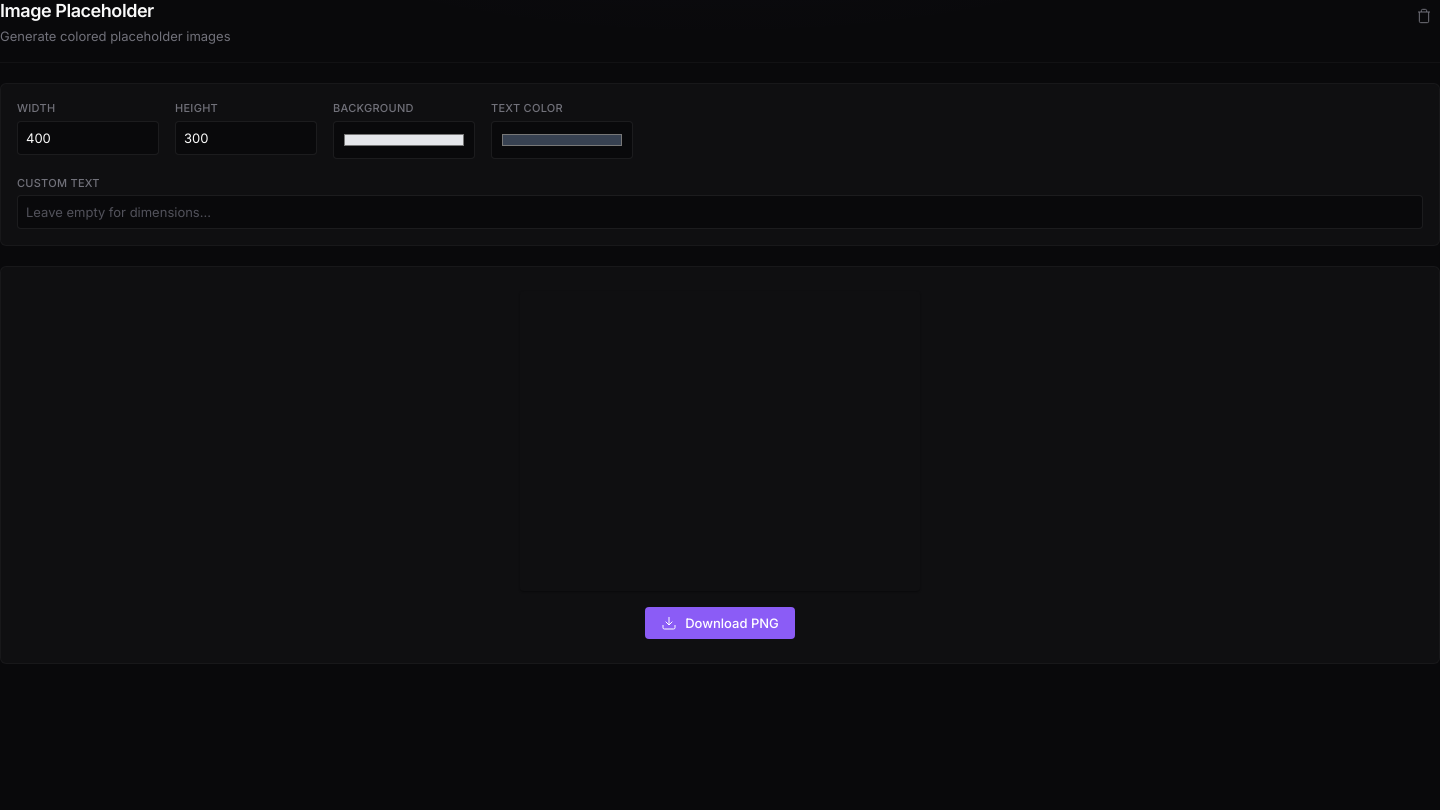
it: PlaceholderTool › Clear Functionality › should clear when clear button clicked
Replace the text in the number field with test id "width-input" with "800" at (88, 138), box [17,120,159,154]
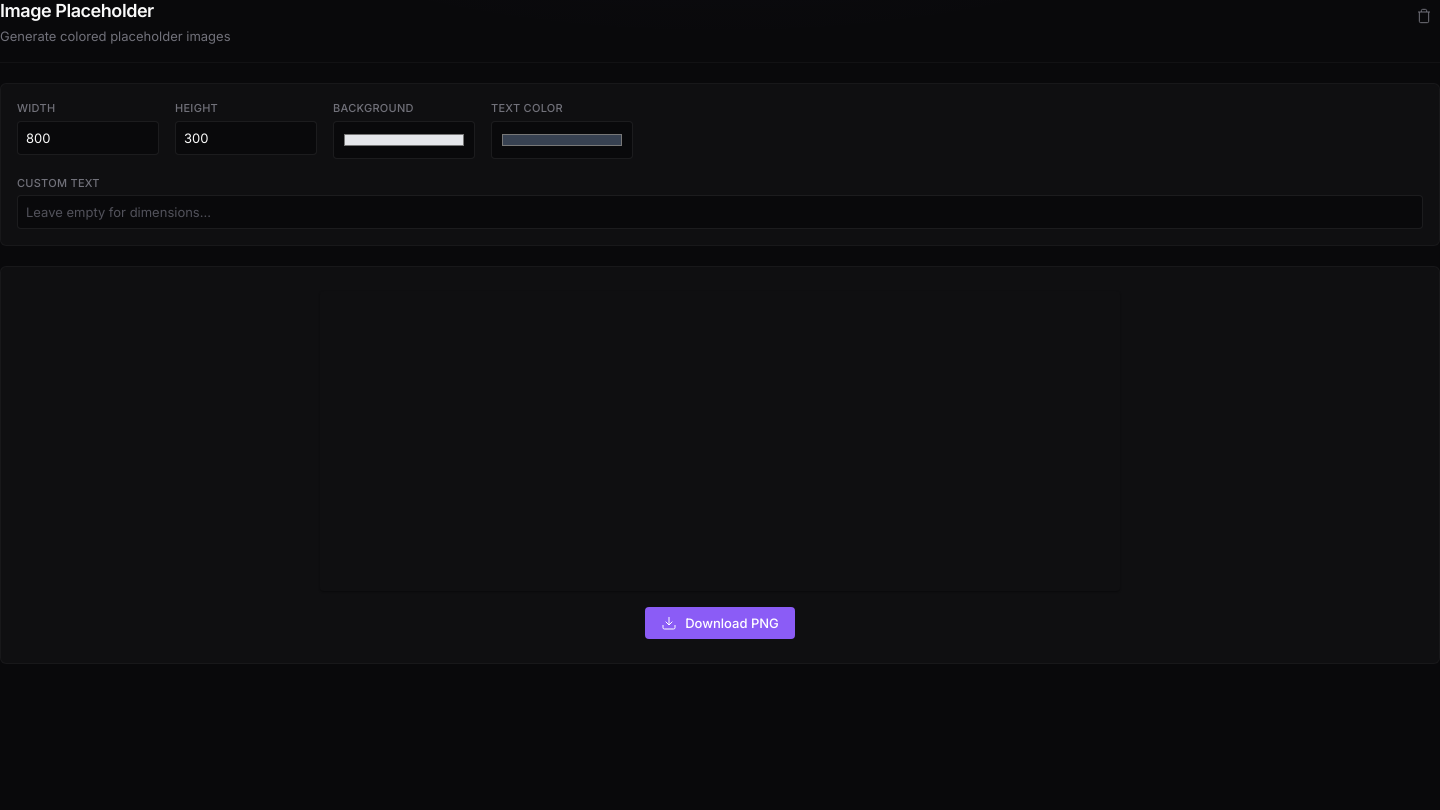
Replace the text in the number field with test id "height-input" with "600" at (246, 138), box [175,120,317,154]
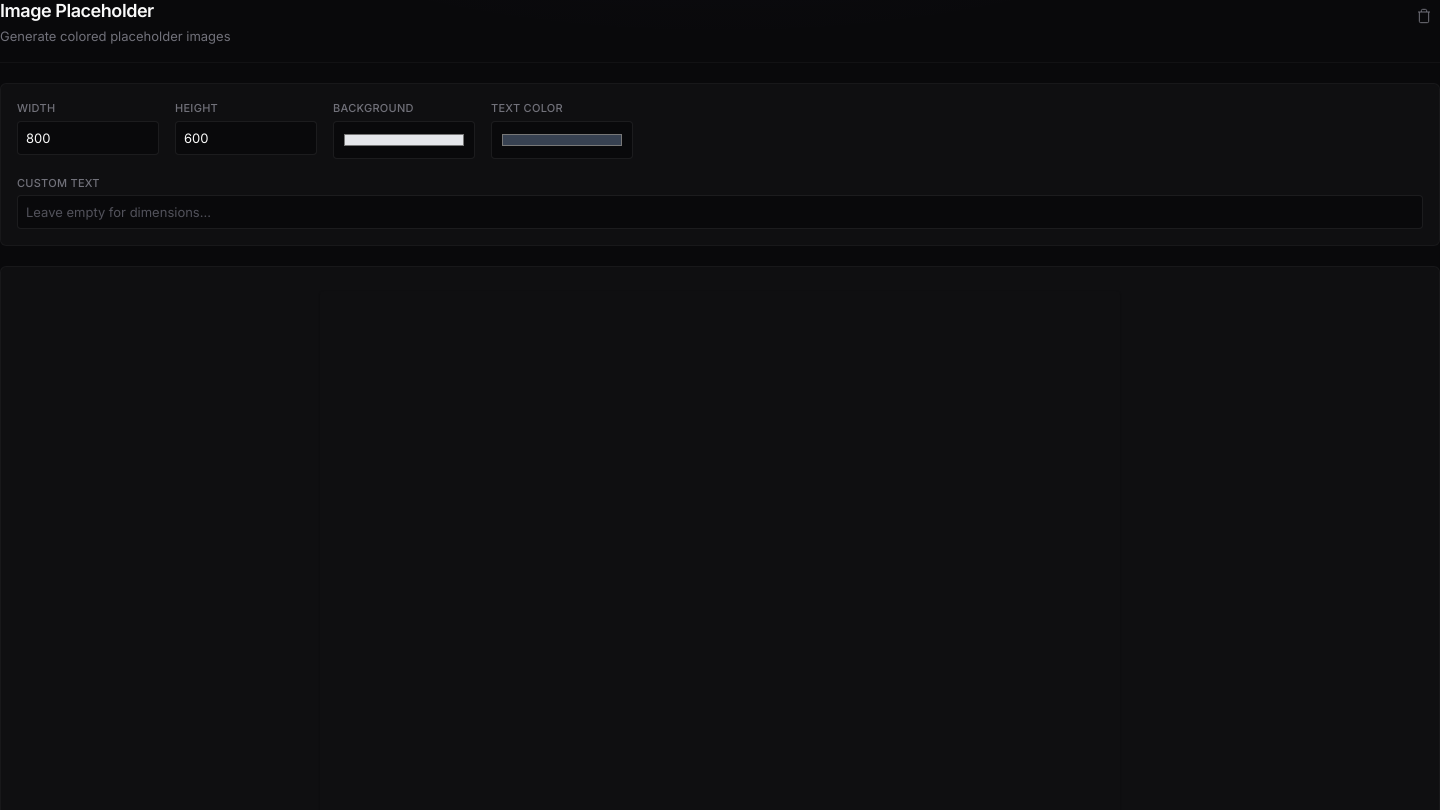
Type "Custom" into the field with test id "custom-text-input" at (720, 212), box [17,195,1423,229]
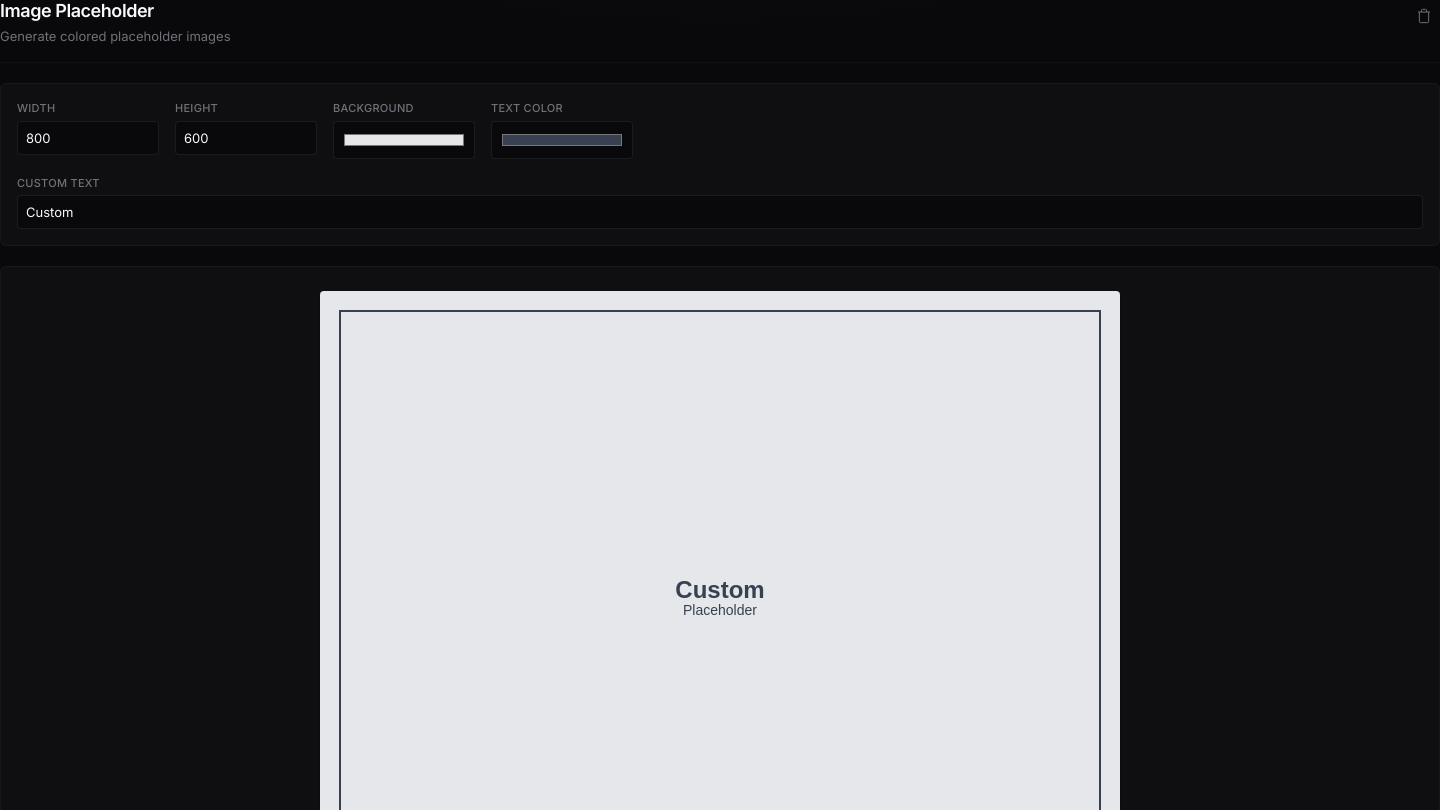
Click the button with test id "clear-button" at (1424, 16), box [1408,0,1439,32]
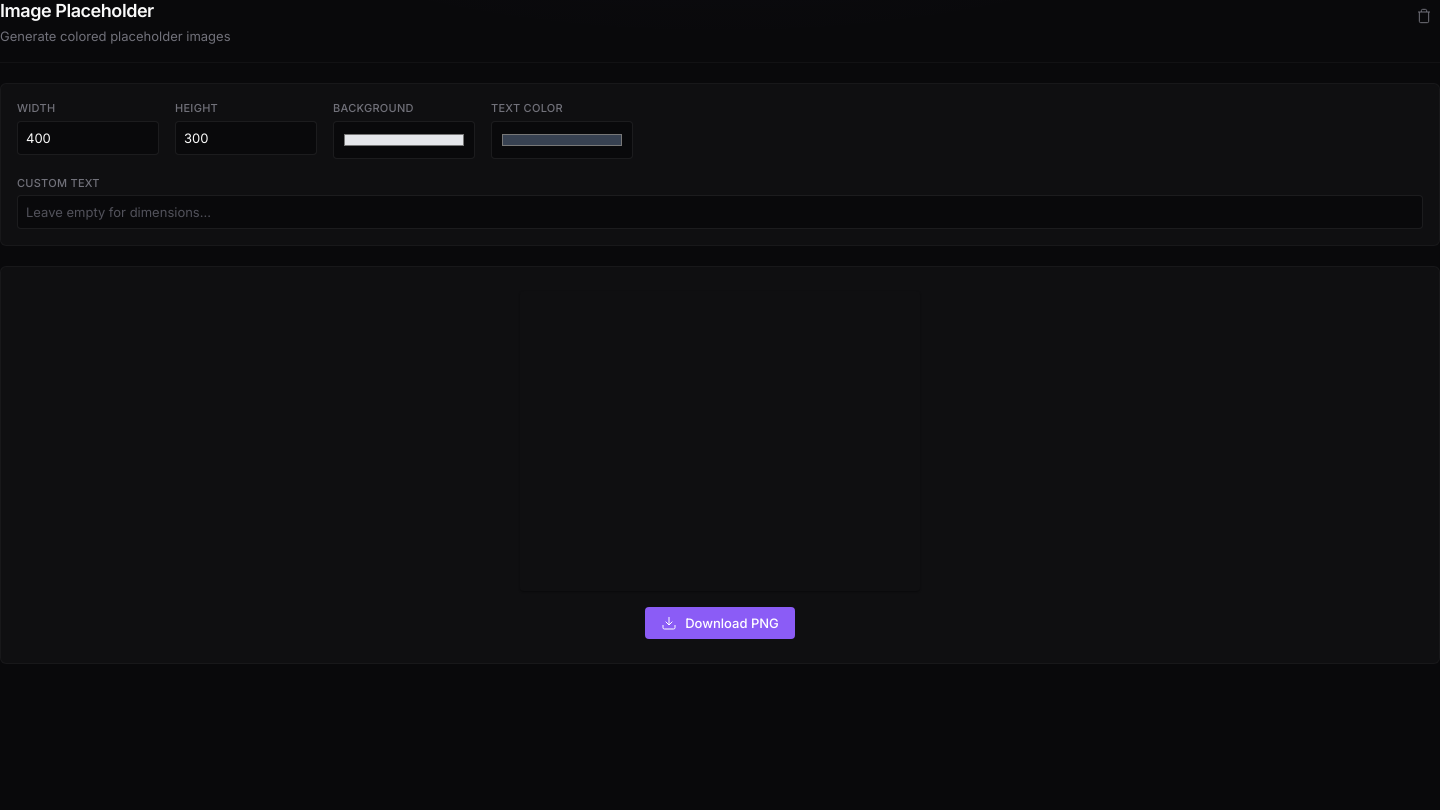
Check: the number field with test id "width-input" holds "400", box [17,120,159,154]
Check: the number field with test id "height-input" holds "300", box [175,120,317,154]
Check: the field with test id "custom-text-input" is empty, box [17,195,1423,229]
